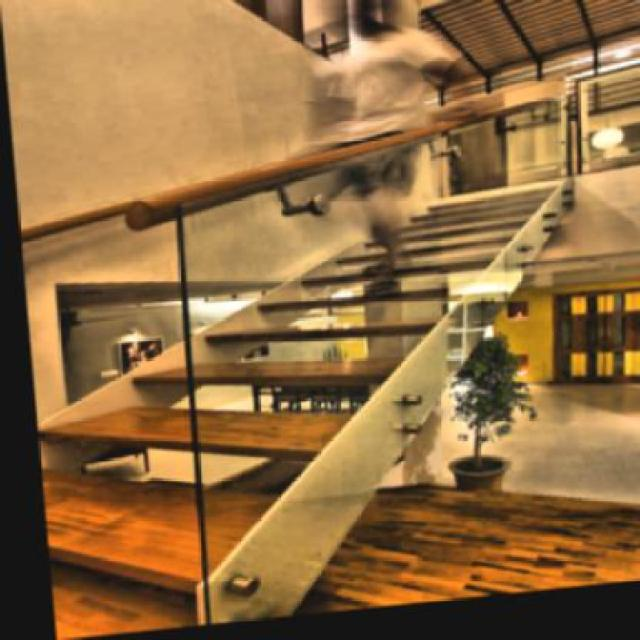stair: (12, 137, 446, 618)
